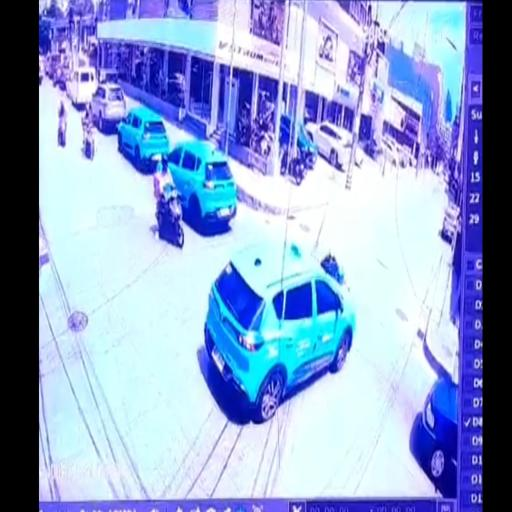Car: (206, 238, 357, 422), (167, 142, 238, 232), (411, 371, 458, 497), (117, 107, 169, 172), (309, 119, 356, 166), (278, 113, 318, 167), (90, 82, 127, 131), (67, 66, 97, 108), (440, 202, 461, 244), (372, 136, 400, 166), (46, 53, 66, 85), (396, 144, 415, 168), (438, 168, 450, 192)
Minor Accident: (206, 238, 356, 424)
Motor: (300, 238, 356, 302), (153, 154, 180, 242), (278, 140, 306, 184), (82, 105, 96, 157), (58, 100, 68, 146)
